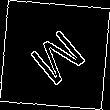M_SE: (21, 21, 89, 89)
